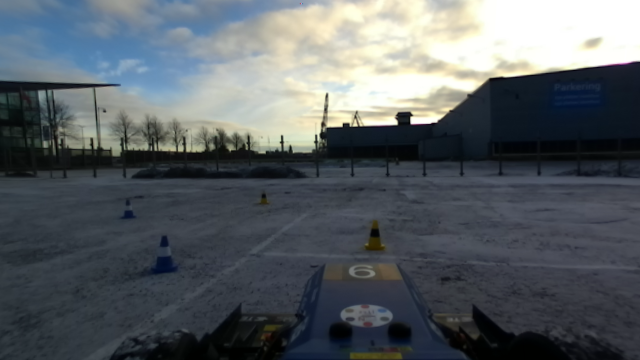blue: (151, 234, 183, 274), (119, 199, 137, 221)
yellow: (364, 218, 385, 250), (258, 189, 270, 209)
